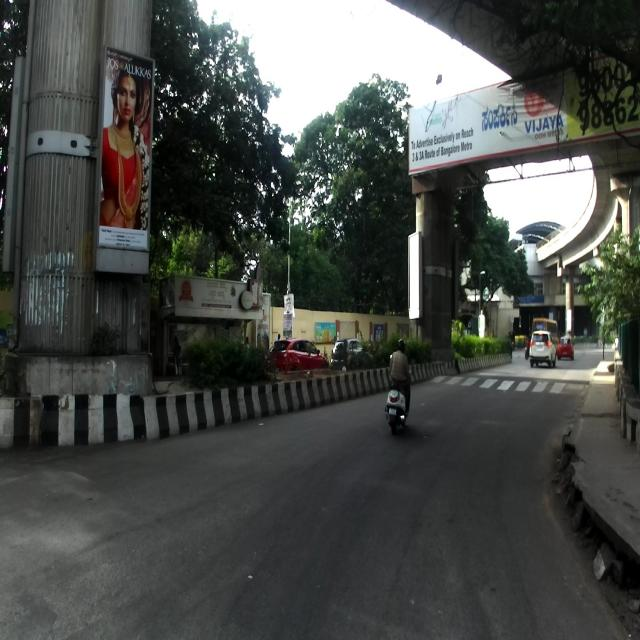Car_Maruti-Suzuki: (266, 336, 328, 370)
Car_Toyota: (528, 328, 556, 370)
scooter: (382, 348, 410, 432)
